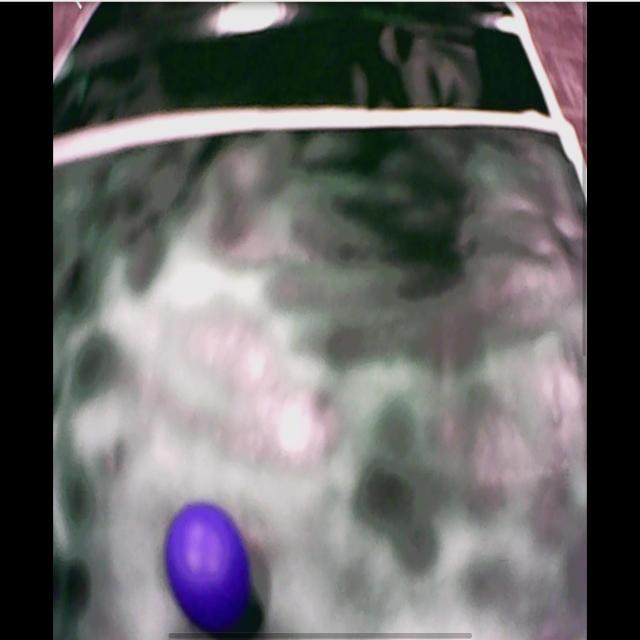ball: (167, 503, 251, 629)
